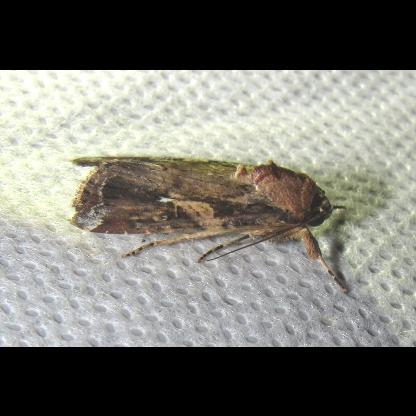Fall Armyworm Moth: (66, 153, 360, 304)
